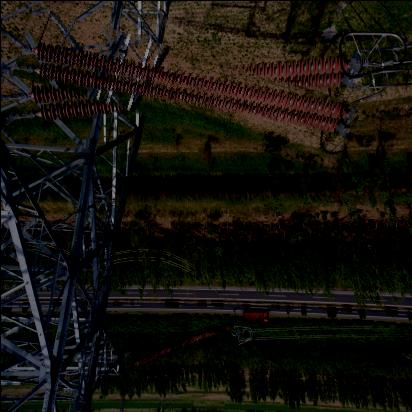insulator: (15, 28, 357, 150), (129, 327, 239, 366)
